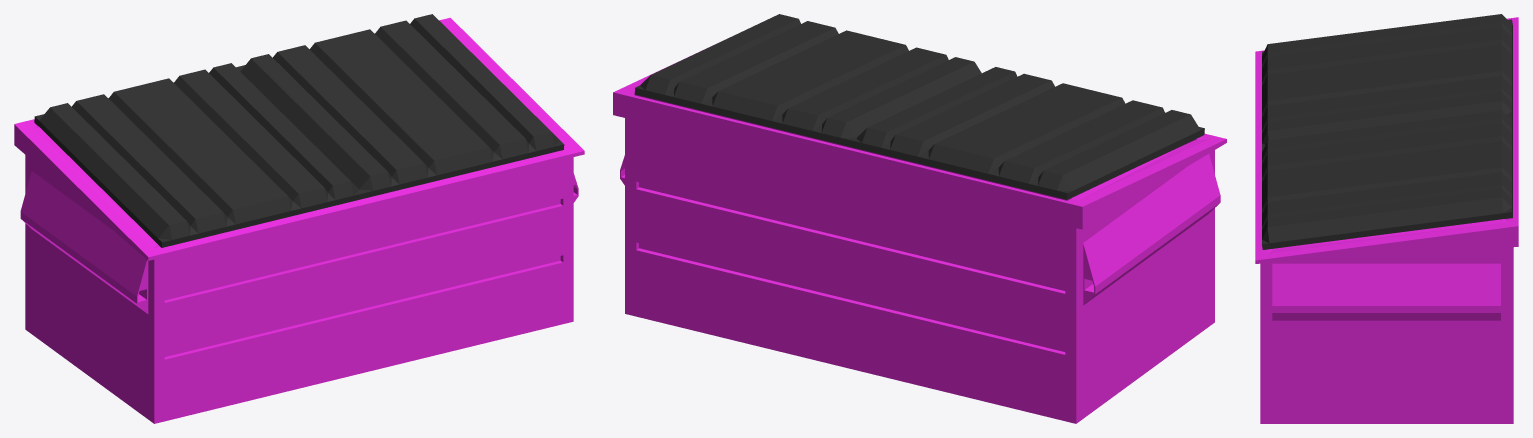
Rendered from Dumpster.obj.
3 views of the same model, side by side, from view 1: azimuth 30°, elevation 25°; view 2: azimuth 150°, elevation 25°; view 3: azimuth 270°, elevation 25° (orthographic). The views are drawn at different scales.
Parts seen in each view (by area): view 1: Dumpster_Cube_Cube.001; view 2: Dumpster_Cube_Cube.001; view 3: Dumpster_Cube_Cube.001.
Part boxes in pixels (x1,y1,x2,y2): Dumpster_Cube_Cube.001: (14,14,584,423); Dumpster_Cube_Cube.001: (613,14,1226,423); Dumpster_Cube_Cube.001: (1255,14,1518,423).
Size of the model in its own units: 7.91 by 3.8 by 4.16.
Materials: 1 (1 with a texture image).
